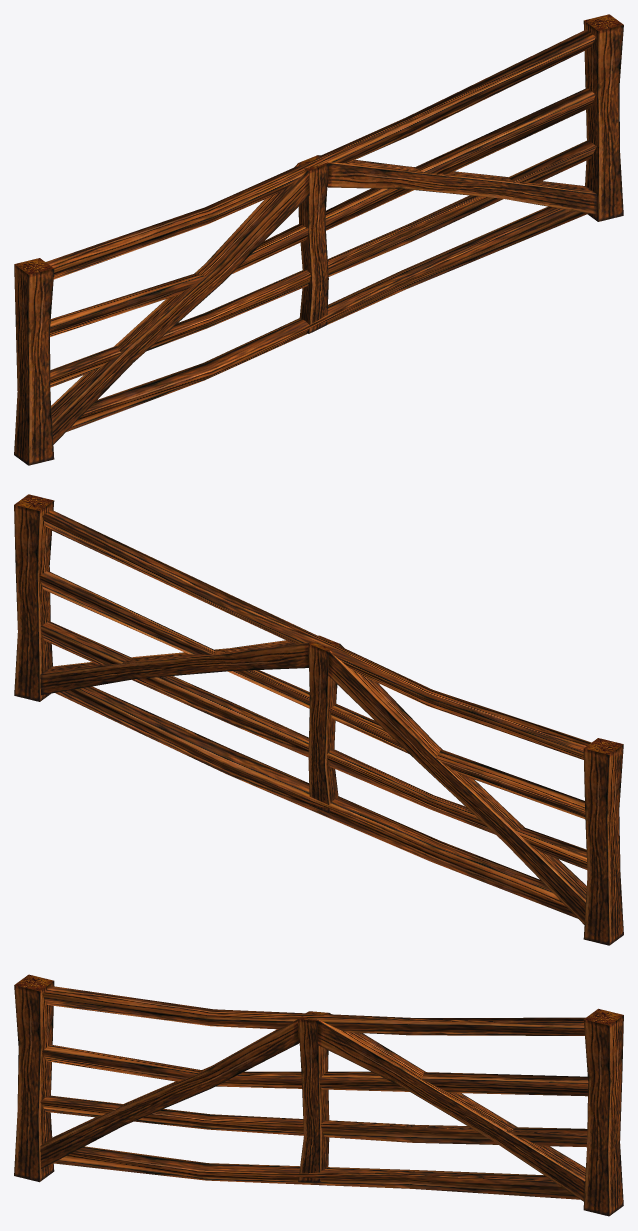
Rendered from INST_HTOWN_FENCEBRNGT10DEG_ANI.fbx.
The picture shows the model from 3 angles, top to bottom: view 1: azimuth 30°, elevation 25°; view 2: azimuth 150°, elevation 25°; view 3: azimuth 330°, elevation 25°; orthographic projection.
Visible parts, largest first — view 1: INST_HTOWN_FENCEBRNGT10DEG_ANI; view 2: INST_HTOWN_FENCEBRNGT10DEG_ANI; view 3: INST_HTOWN_FENCEBRNGT10DEG_ANI.
Boxes of the visible parts, x1=… form: INST_HTOWN_FENCEBRNGT10DEG_ANI: x1=14, y1=14, x2=623, y2=465; INST_HTOWN_FENCEBRNGT10DEG_ANI: x1=14, y1=494, x2=623, y2=945; INST_HTOWN_FENCEBRNGT10DEG_ANI: x1=14, y1=974, x2=623, y2=1216.
Size of the model in its own units: 31501 by 14944 by 1464.
Materials: 2 (2 with a texture image).
